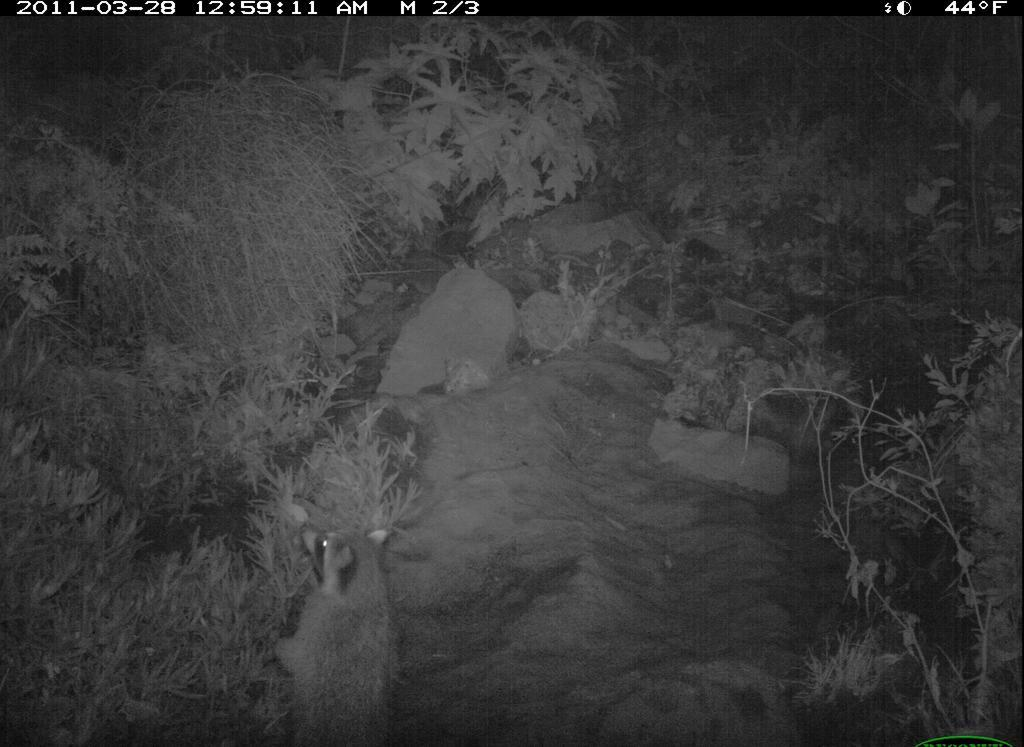raccoon: (268, 500, 434, 745)
